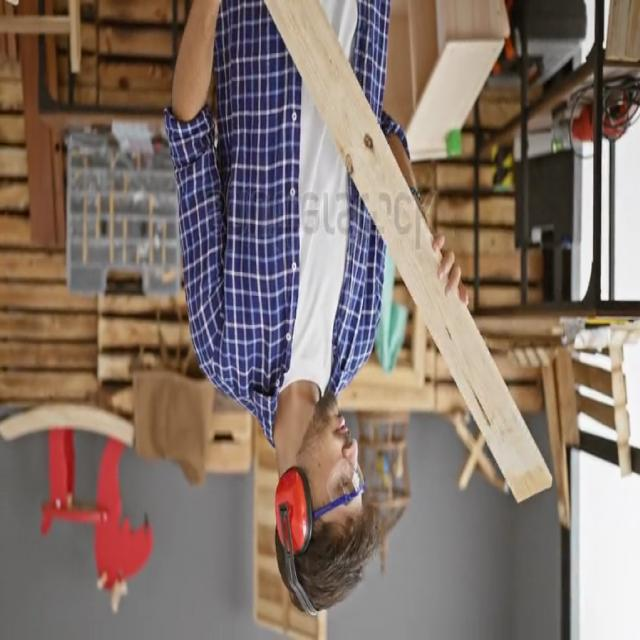goggles: (318, 457, 373, 517)
